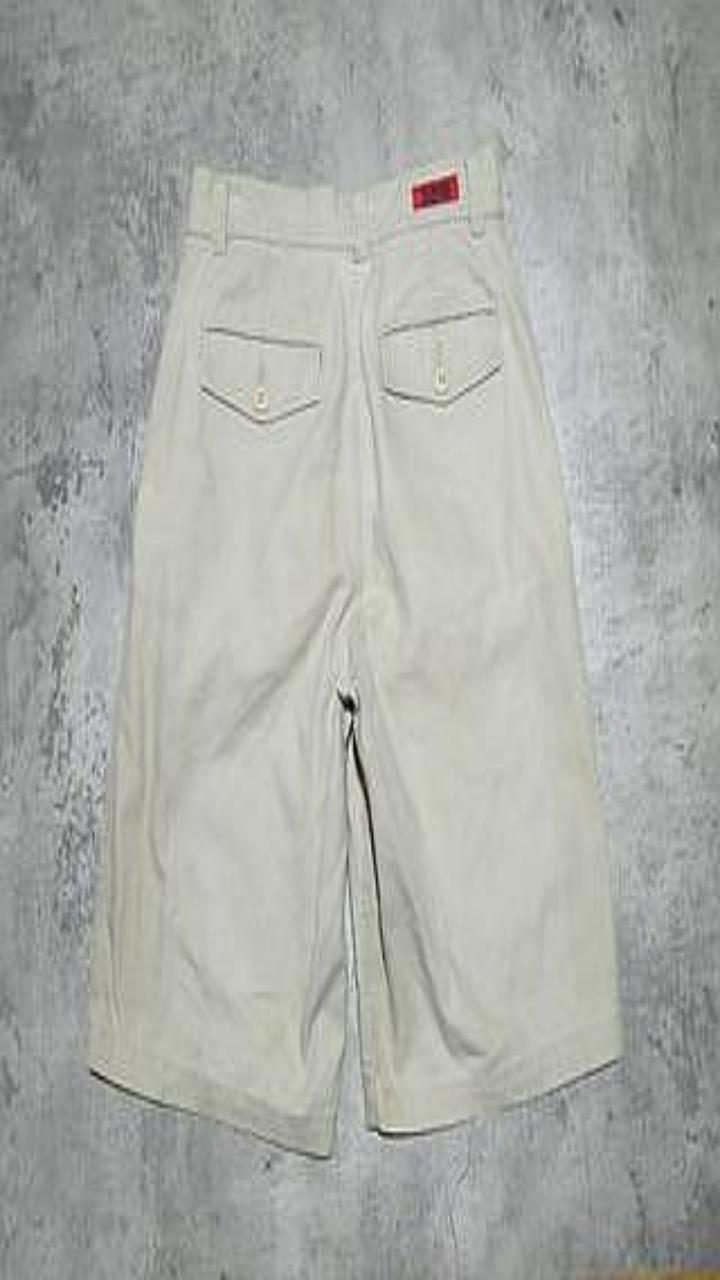Shorts: (89, 132, 621, 1154)
